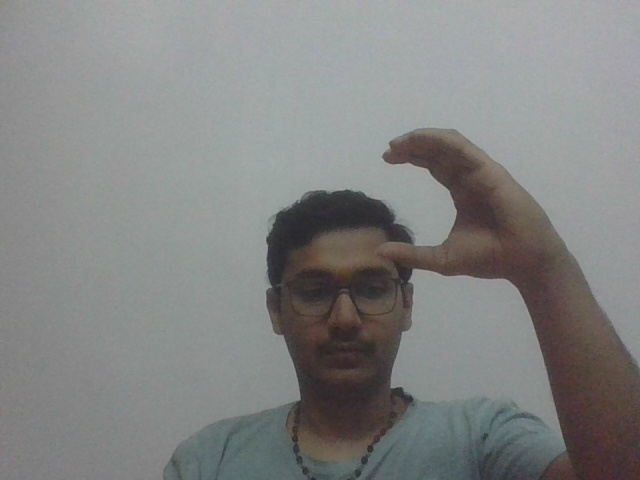C: (374, 122, 555, 283)
